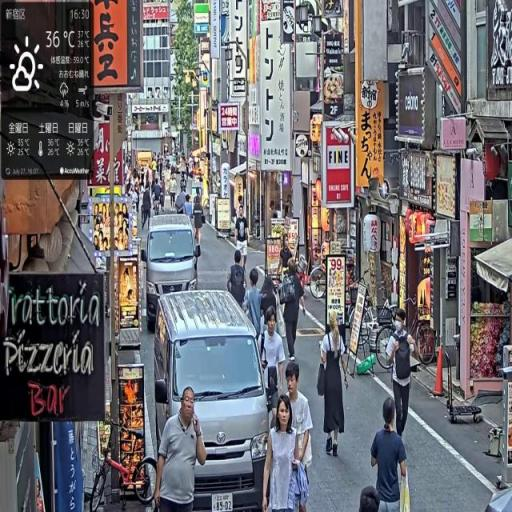person: (153, 386, 208, 512), (280, 360, 316, 511), (317, 312, 351, 460), (264, 395, 307, 512), (370, 397, 411, 512), (385, 307, 417, 448), (280, 256, 309, 363), (261, 308, 287, 423), (244, 268, 265, 344), (234, 203, 251, 276), (228, 250, 248, 311)
